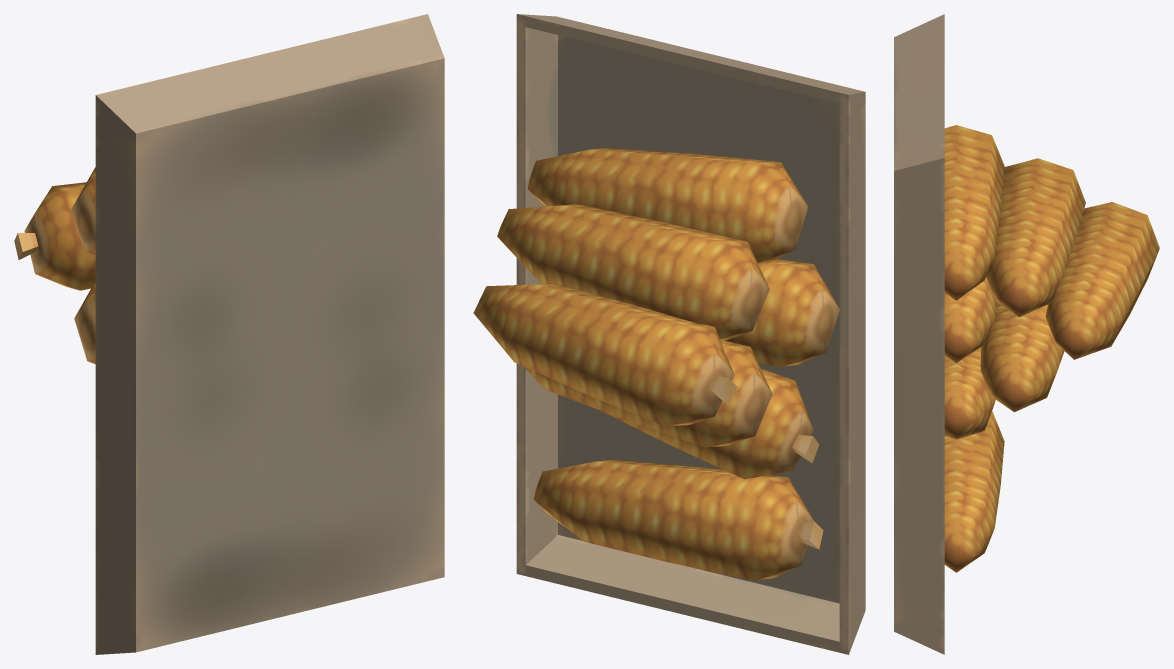
File: Food_corn.fbx
3 views of the same model, side by side, from view 1: azimuth 30°, elevation 25°; view 2: azimuth 150°, elevation 25°; view 3: azimuth 270°, elevation 25° (orthographic). The views are drawn at different scales.
Visible parts, largest first — view 1: Food_corn; view 2: Food_corn; view 3: Food_corn.
Boxes of the visible parts, bbox=[...] form: Food_corn: bbox=[14, 14, 444, 654]; Food_corn: bbox=[473, 14, 865, 654]; Food_corn: bbox=[894, 14, 1159, 654].
Bounding box in the file's own units: 0.2607 × 0.4199 × 0.2035.
